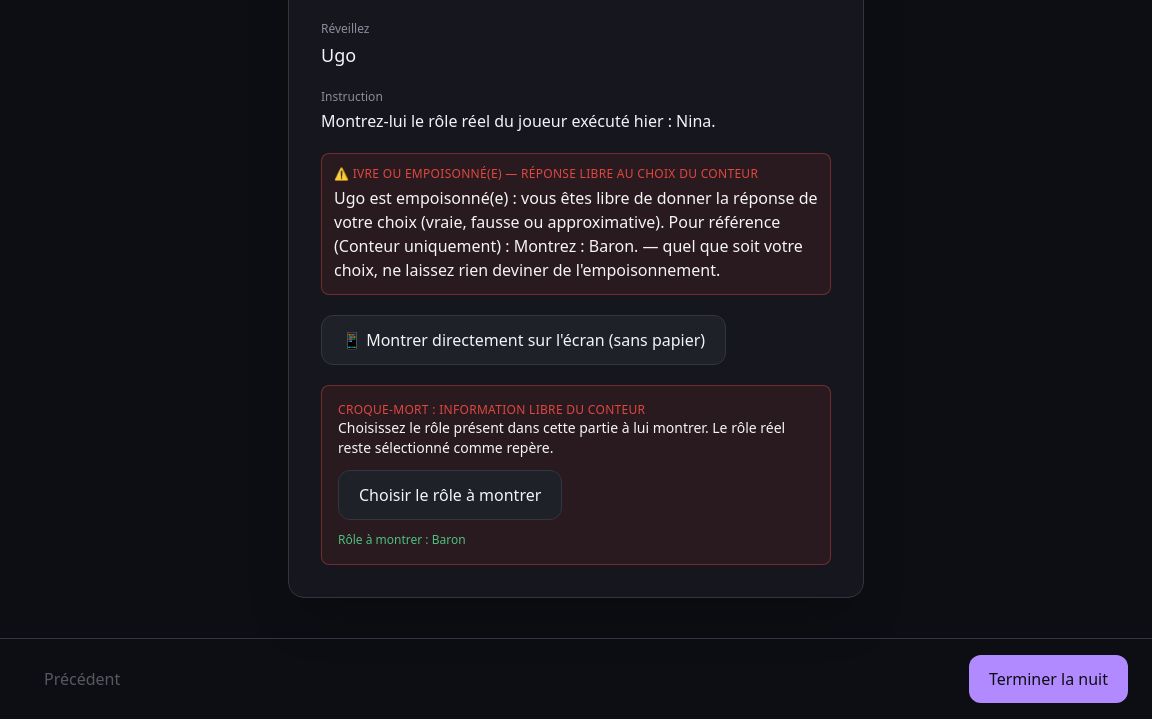
Test case: NightAssistantScreen — Croque-mort ivre ou empoisonné › permet au Conteur de remplacer le rôle réel par le rôle mensonger à montrer
(page scrolled)
Expected: the text "Choisissez" is shown, [338, 418, 785, 457]
Click the button "Choisir le rôle à montrer". click: x=450, y=495
box: [338, 470, 562, 520]
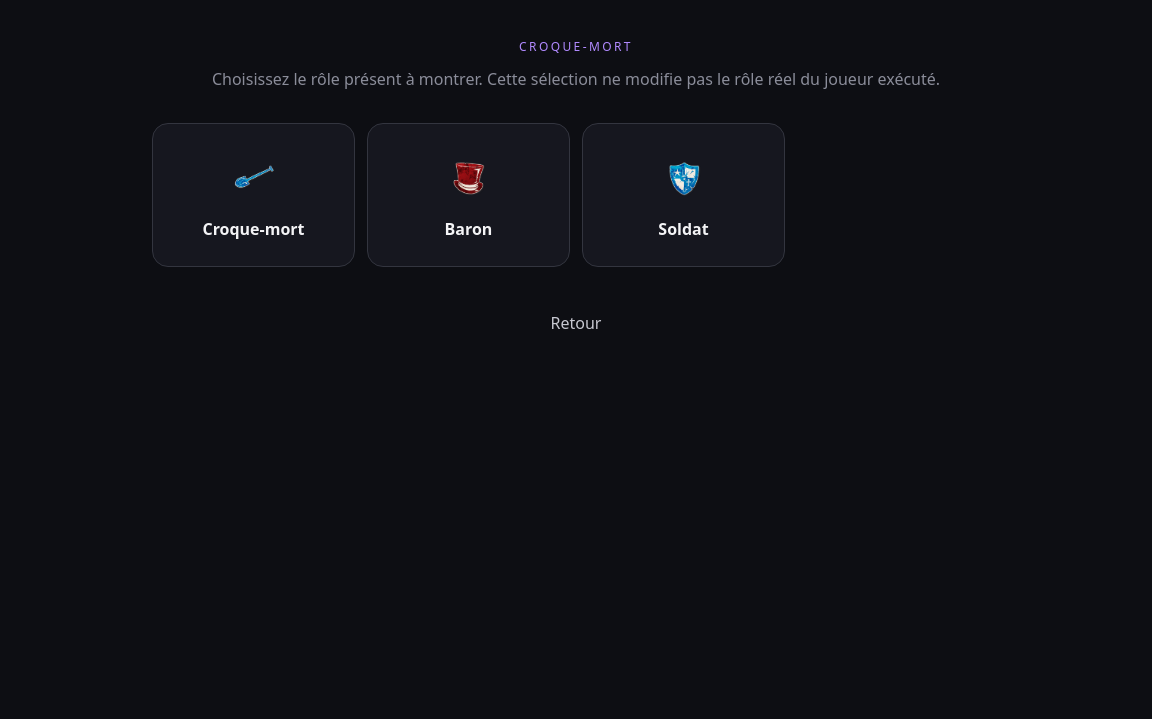
Click the button "Soldat". click: x=684, y=195
box: [582, 123, 785, 267]
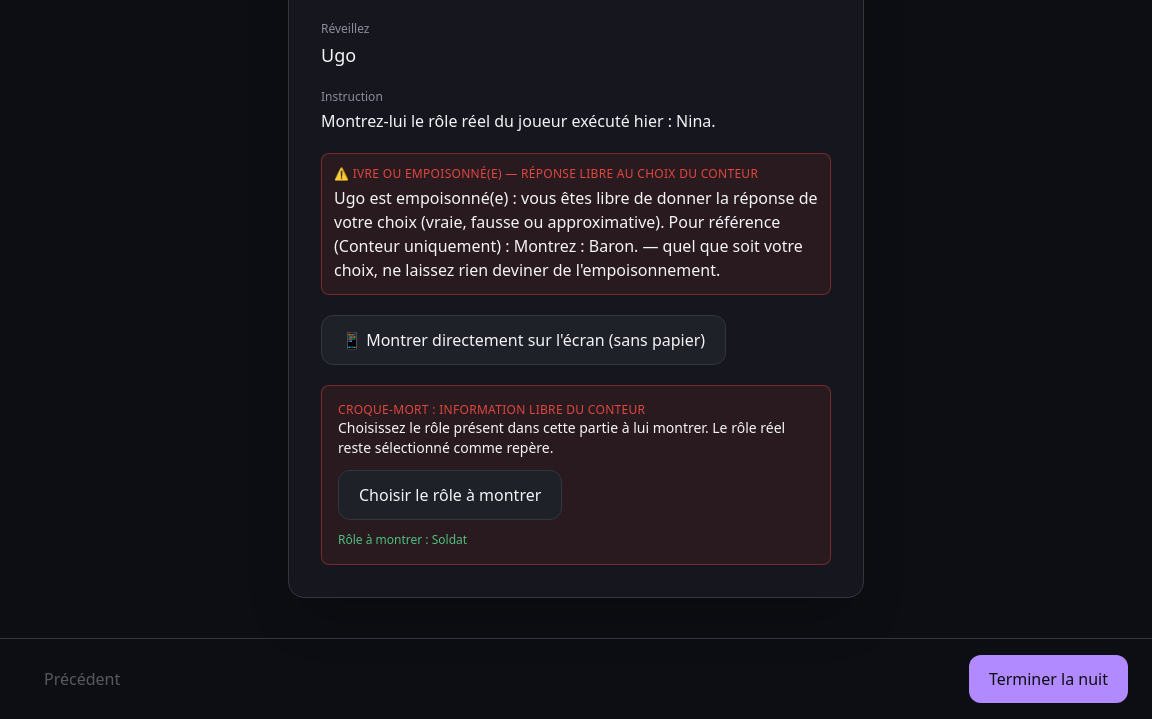
Expected: the button "📱 Montrer directement sur l'écran (sans papier)" is enabled, [321, 315, 726, 365]
Now the text "Rôle à montrer : Soldat" is shown, box [338, 531, 467, 548]
